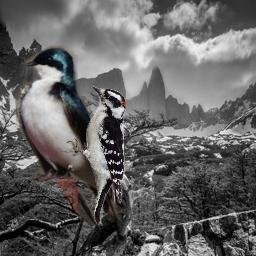Swallow: (14, 45, 126, 226)
Woodpecker: (61, 84, 128, 226)
